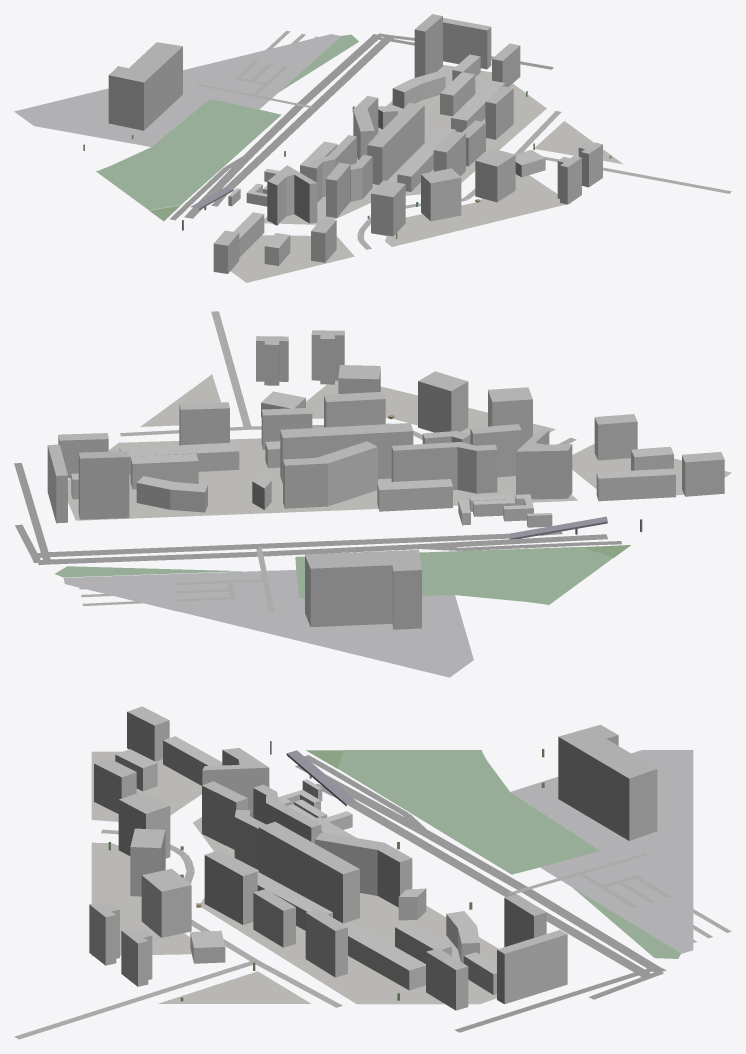
The picture shows the model from 3 angles, top to bottom: view 1: azimuth 30°, elevation 25°; view 2: azimuth 150°, elevation 25°; view 3: azimuth 270°, elevation 25°; orthographic projection. The views are drawn at different scales.
Bounding box in the file's own units: 584 × 62.6 × 597.
